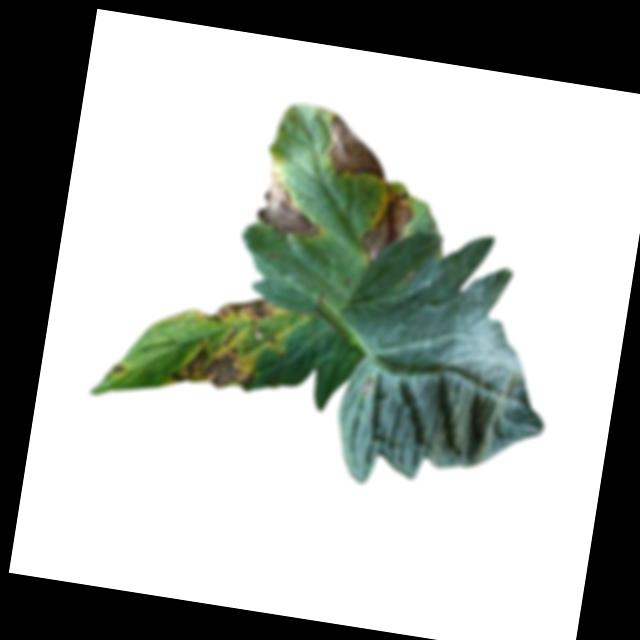Early_blight: (166, 319, 261, 401), (249, 163, 327, 243), (355, 184, 417, 273), (319, 112, 393, 183), (207, 291, 277, 332), (357, 373, 379, 400), (108, 362, 127, 378)
